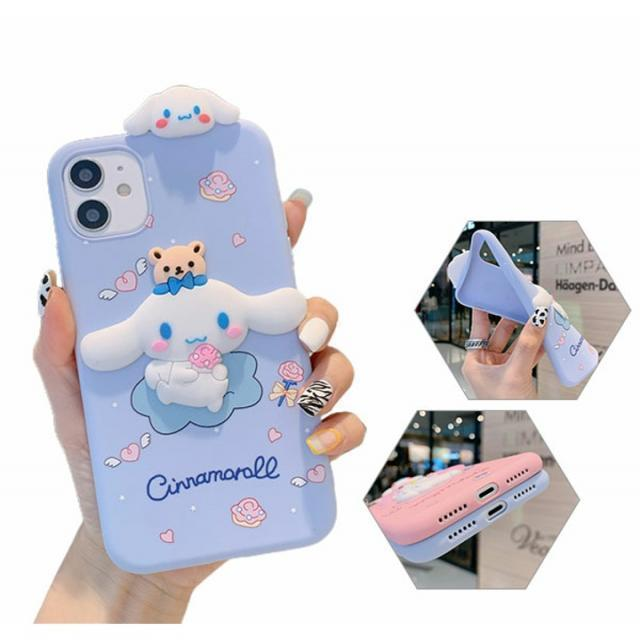lens: (66, 150, 150, 238)
phone: (49, 109, 343, 573)
